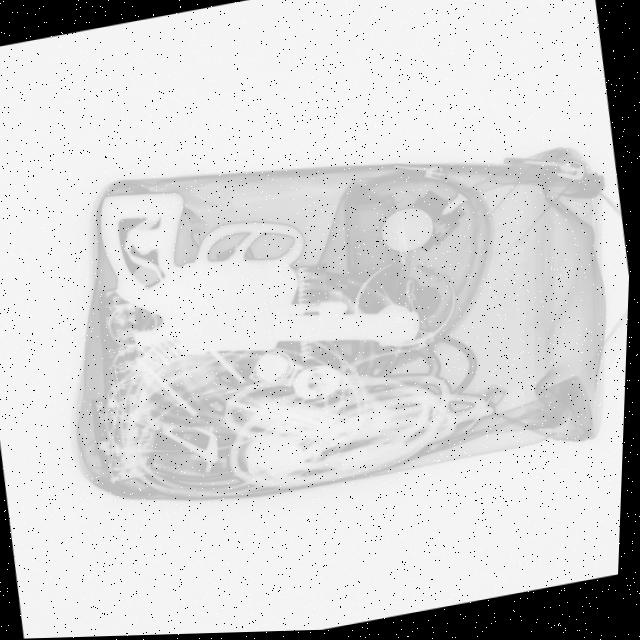pistol: (93, 142, 429, 400)
